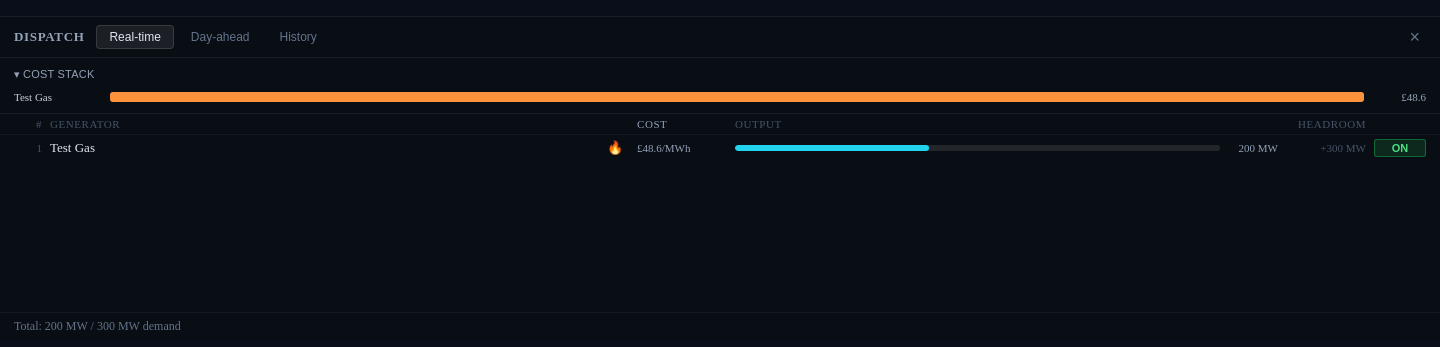
Test: DispatchPanel › Real-time tab — merit order table › expands slider row on row click
The image size is (1440, 347).
Click the button with test id "dispatch-row-gen-1": (72, 148) [0,135,1439,161]
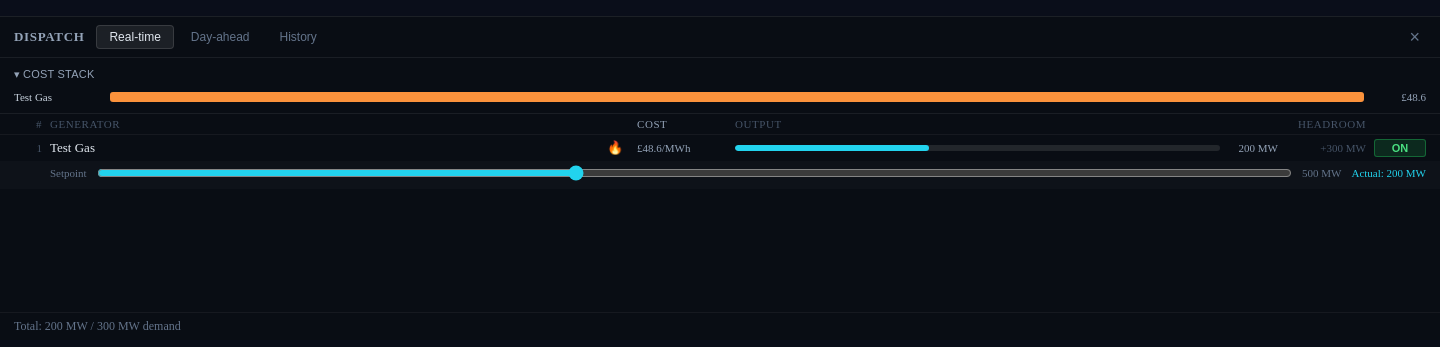
Now the element with test id "slider-row-gen-1" is shown, box [0,161,1439,189]
